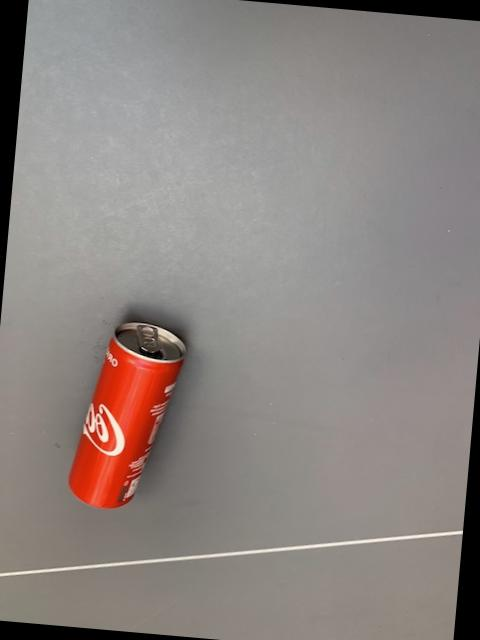metal: (66, 322, 182, 508)
